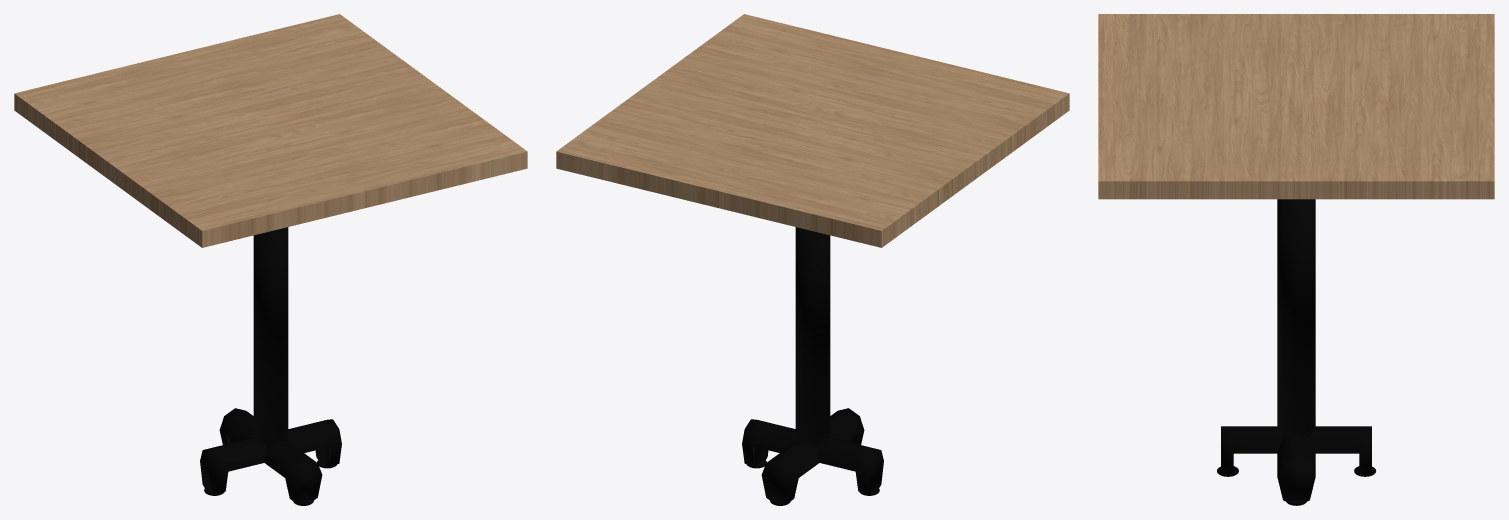
File: Indoor_Table.fbx
3 views of the same model, side by side, from view 1: azimuth 30°, elevation 25°; view 2: azimuth 150°, elevation 25°; view 3: azimuth 270°, elevation 25° (orthographic). The views are drawn at different scales.
Visible parts, largest first — view 1: Plane, Sphere; view 2: Plane, Sphere; view 3: Plane, Sphere.
Boxes of the visible parts, bbox=[...] form: Plane: bbox=[14, 14, 527, 247]; Sphere: bbox=[200, 227, 341, 505]; Plane: bbox=[556, 14, 1069, 247]; Sphere: bbox=[742, 227, 883, 505]; Plane: bbox=[1098, 14, 1494, 199]; Sphere: bbox=[1217, 199, 1375, 505].
Bounding box in the file's own units: 600 × 630 × 600.
Materials: 2 (1 with a texture image).
